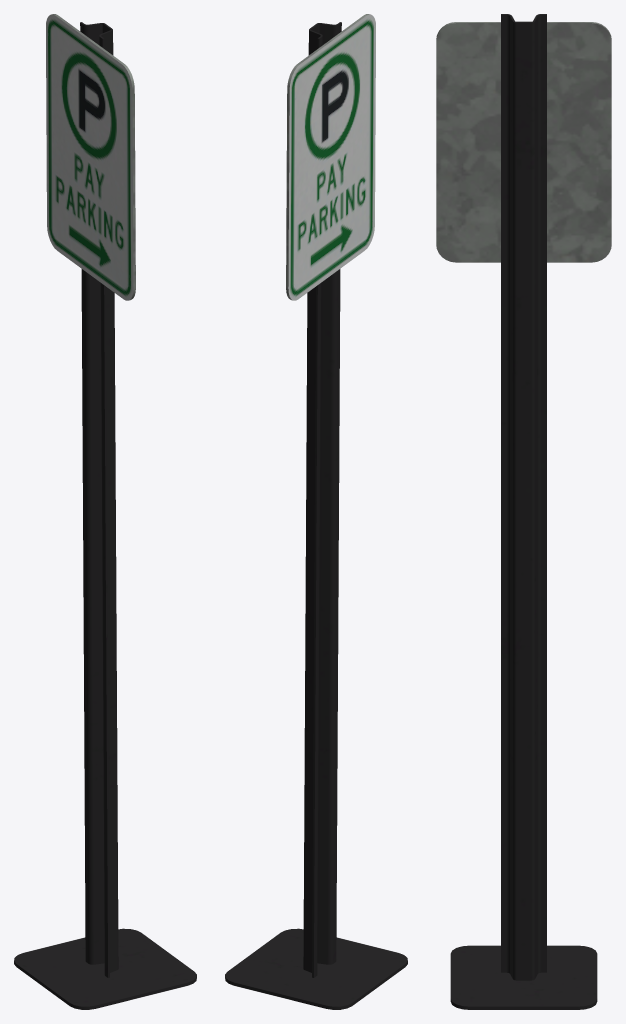
3 views of the same model, side by side, from view 1: azimuth 30°, elevation 25°; view 2: azimuth 150°, elevation 25°; view 3: azimuth 270°, elevation 25° (orthographic).
Parts seen in each view (by area): view 1: Sign_PayParking5; view 2: Sign_PayParking5; view 3: Sign_PayParking5.
Boxes of the visible parts, x1,y1,x2,y2 form: Sign_PayParking5: [14, 14, 196, 1009]; Sign_PayParking5: [225, 14, 407, 1009]; Sign_PayParking5: [436, 14, 611, 1009].
Size of the model in its own units: 0.254 by 1.84 by 0.3048.
1 material, 1 textured.
